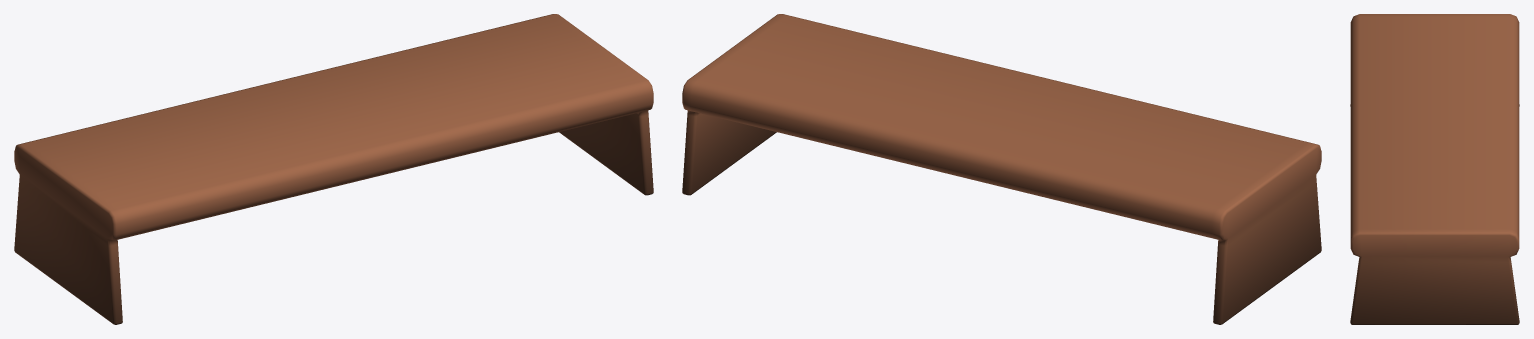
The model's file is SM_chair-L.fbx.
The picture shows the model from 3 angles, left to right: view 1: azimuth 30°, elevation 25°; view 2: azimuth 150°, elevation 25°; view 3: azimuth 270°, elevation 25°; orthographic projection. The views are drawn at different scales.
Visible parts, largest first — view 1: Cube.004; view 2: Cube.004; view 3: Cube.004.
Part boxes in pixels (left/top/right/bottom): Cube.004: left=14, top=14, right=653, bottom=324; Cube.004: left=682, top=14, right=1321, bottom=324; Cube.004: left=1350, top=14, right=1519, bottom=324.
Bounding box in the file's own units: 286 × 56.29 × 93.04.
